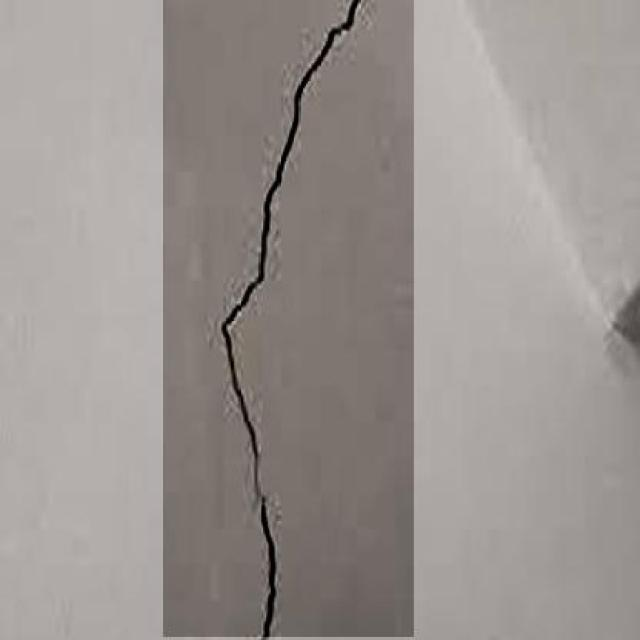Crack: (166, 0, 417, 640)
